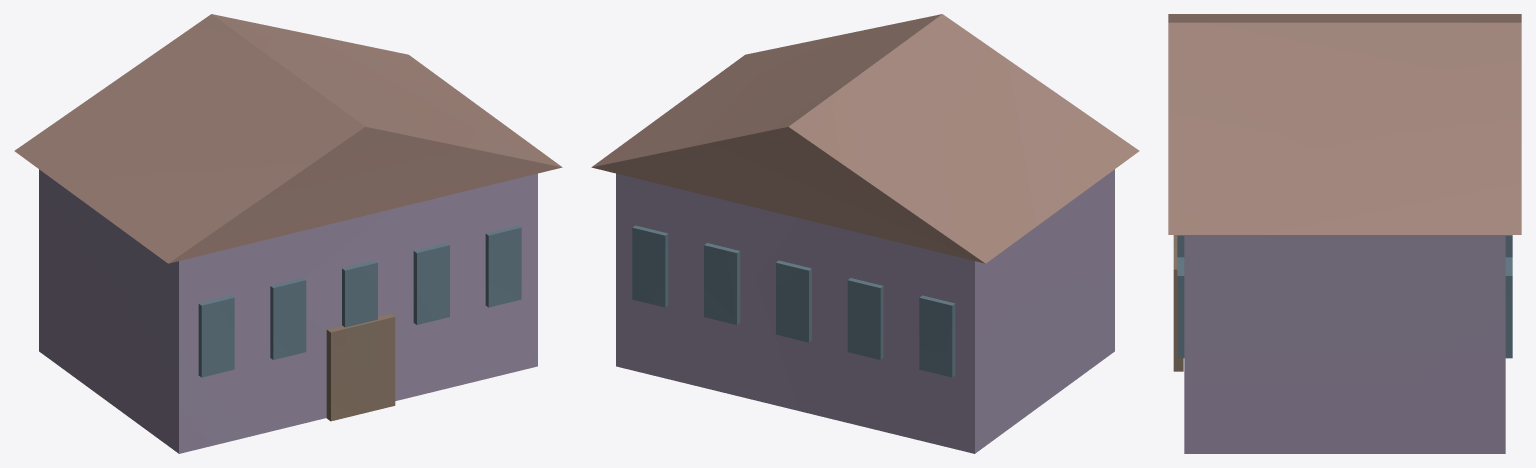
File: market-00.glb
The picture shows the model from 3 angles, left to right: view 1: azimuth 30°, elevation 25°; view 2: azimuth 150°, elevation 25°; view 3: azimuth 270°, elevation 25°; orthographic projection. The views are drawn at different scales.
Parts seen in each view (by area): view 1: world; view 2: world; view 3: world.
Boxes of the visible parts, x1,y1,x2,y2 form: world: (14, 14, 562, 453); world: (591, 14, 1139, 453); world: (1168, 14, 1521, 453).
Bounding box in the file's own units: 1.86 × 1.3 × 1.26.
